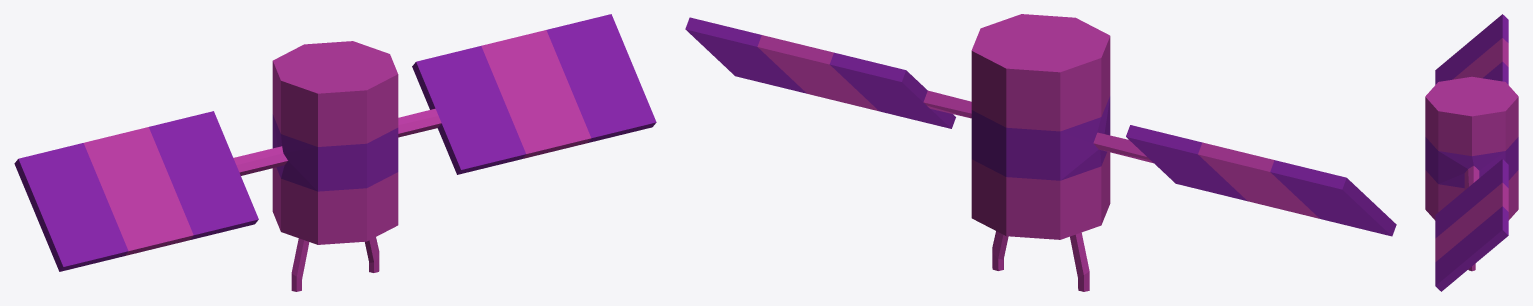
File: satellite.fbx
The picture shows the model from 3 angles, left to right: view 1: azimuth 30°, elevation 25°; view 2: azimuth 150°, elevation 25°; view 3: azimuth 270°, elevation 25°; orthographic projection. The views are drawn at different scales.
Parts seen in each view (by area): view 1: satellite; view 2: satellite; view 3: satellite.
Part boxes in pixels (left/top/right/bottom): satellite: left=14, top=14, right=656, bottom=291; satellite: left=685, top=14, right=1396, bottom=291; satellite: left=1425, top=14, right=1518, bottom=291.
Size of the model in its own units: 5.09 by 1.74 by 0.9322.
